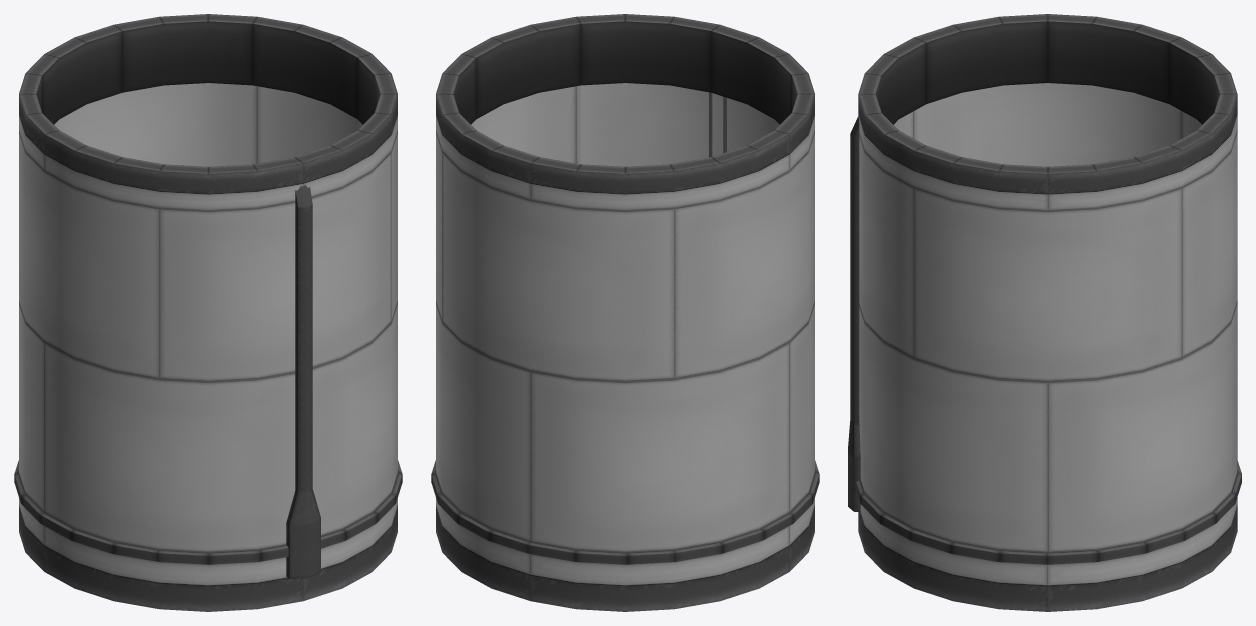
Rendered from LongTank.dae.
3 views of the same model, side by side, from view 1: azimuth 30°, elevation 25°; view 2: azimuth 150°, elevation 25°; view 3: azimuth 270°, elevation 25° (orthographic).
Parts seen in each view (by area): view 1: UpperStageLong, Rib; view 2: UpperStageLong; view 3: UpperStageLong, Rib.
Boxes of the visible parts, x1=… form: UpperStageLong: x1=14, y1=14, x2=402, y2=611; Rib: x1=286, y1=185, x2=320, y2=578; UpperStageLong: x1=431, y1=14, x2=819, y2=611; UpperStageLong: x1=856, y1=14, x2=1241, y2=611; Rib: x1=848, y1=116, x2=860, y2=511.
Size of the model in its own units: 1.92 by 2.39 by 1.95.
